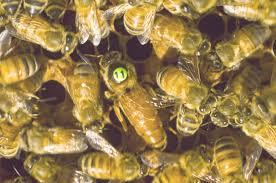Queen-Bee: (96, 52, 172, 151)
worker-bee: (56, 54, 111, 133), (1, 5, 76, 56), (204, 21, 273, 73), (158, 62, 222, 118), (154, 14, 218, 60), (213, 69, 265, 123), (13, 121, 98, 152), (71, 147, 145, 178), (0, 54, 48, 87)
